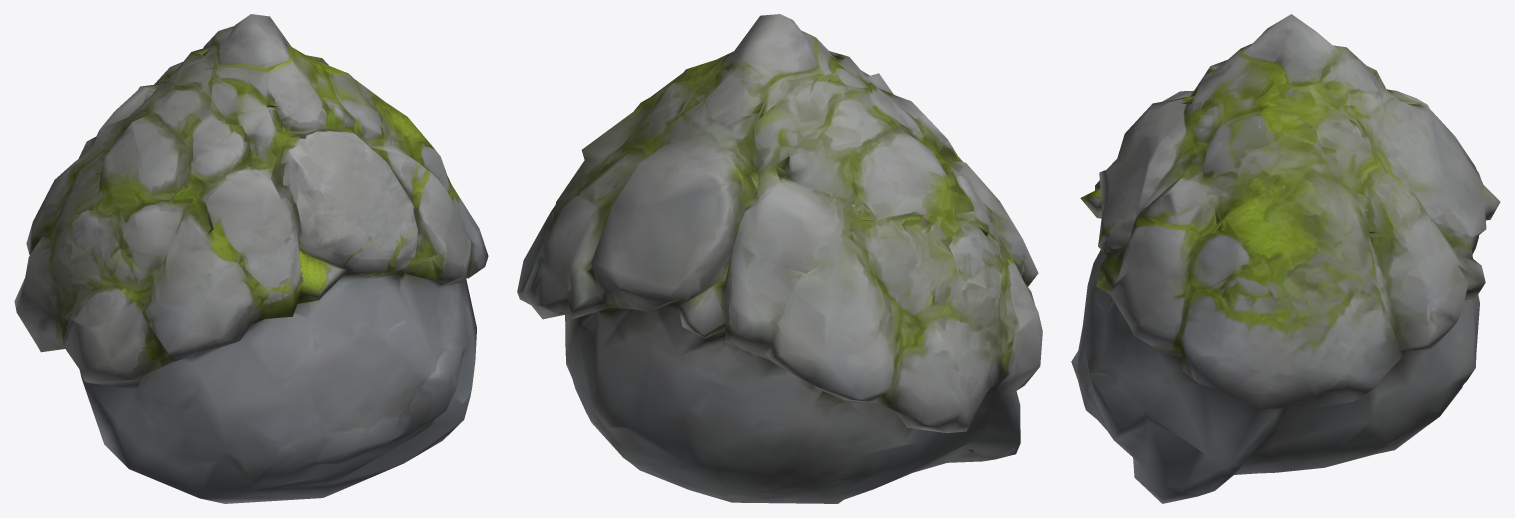
File: stone_tortoise.glb
3 views of the same model, side by side, from view 1: azimuth 30°, elevation 25°; view 2: azimuth 150°, elevation 25°; view 3: azimuth 270°, elevation 25° (orthographic). The views are drawn at different scales.
Visible parts, largest first — view 1: tripo_node_6ea9c450-f866-4cf0-a9de-7822857c30e0; view 2: tripo_node_6ea9c450-f866-4cf0-a9de-7822857c30e0; view 3: tripo_node_6ea9c450-f866-4cf0-a9de-7822857c30e0.
Boxes of the visible parts, x1,y1,x2,y2 form: tripo_node_6ea9c450-f866-4cf0-a9de-7822857c30e0: (14,14,488,503); tripo_node_6ea9c450-f866-4cf0-a9de-7822857c30e0: (517,14,1042,503); tripo_node_6ea9c450-f866-4cf0-a9de-7822857c30e0: (1071,14,1500,503).
Size of the model in its own units: 0.9883 by 1 by 0.8823.
Materials: 1 (1 with a texture image).
